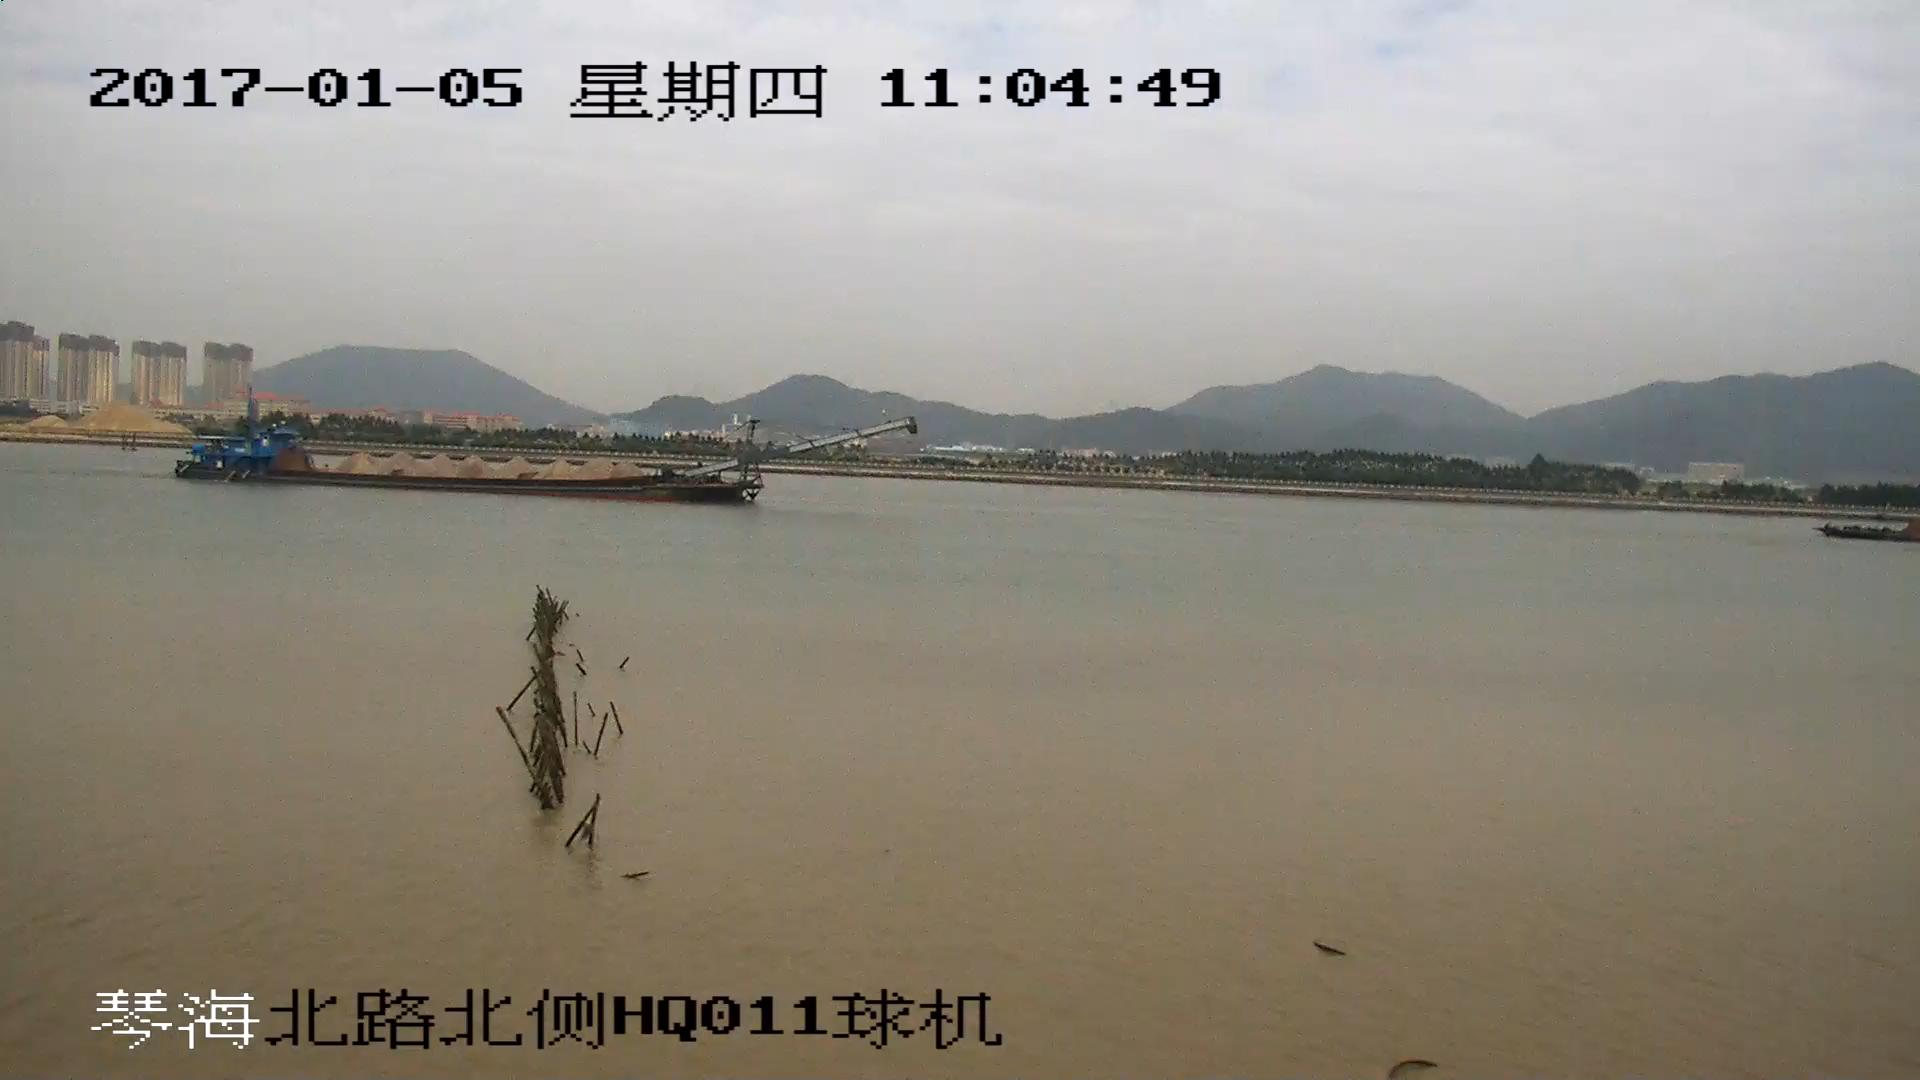ore carrier: (180, 422, 910, 504)
